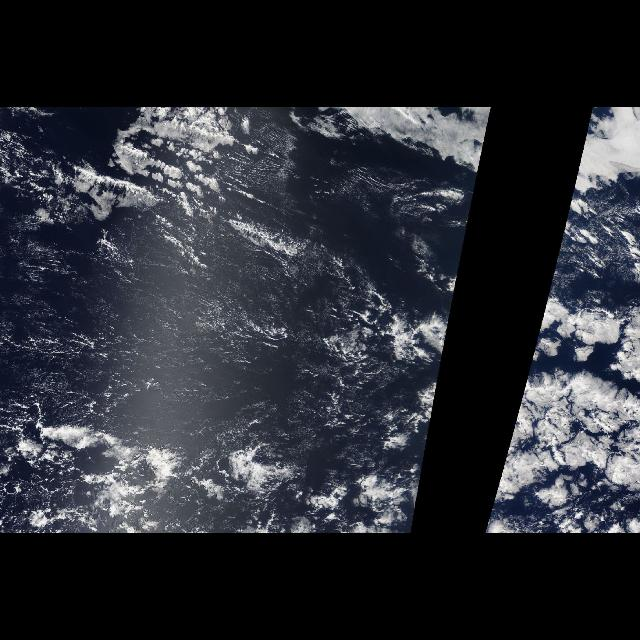Flower: (484, 273, 640, 531), (372, 273, 458, 531)
Gravel: (3, 391, 355, 531)
Sugar: (10, 215, 330, 412), (236, 133, 396, 200)
